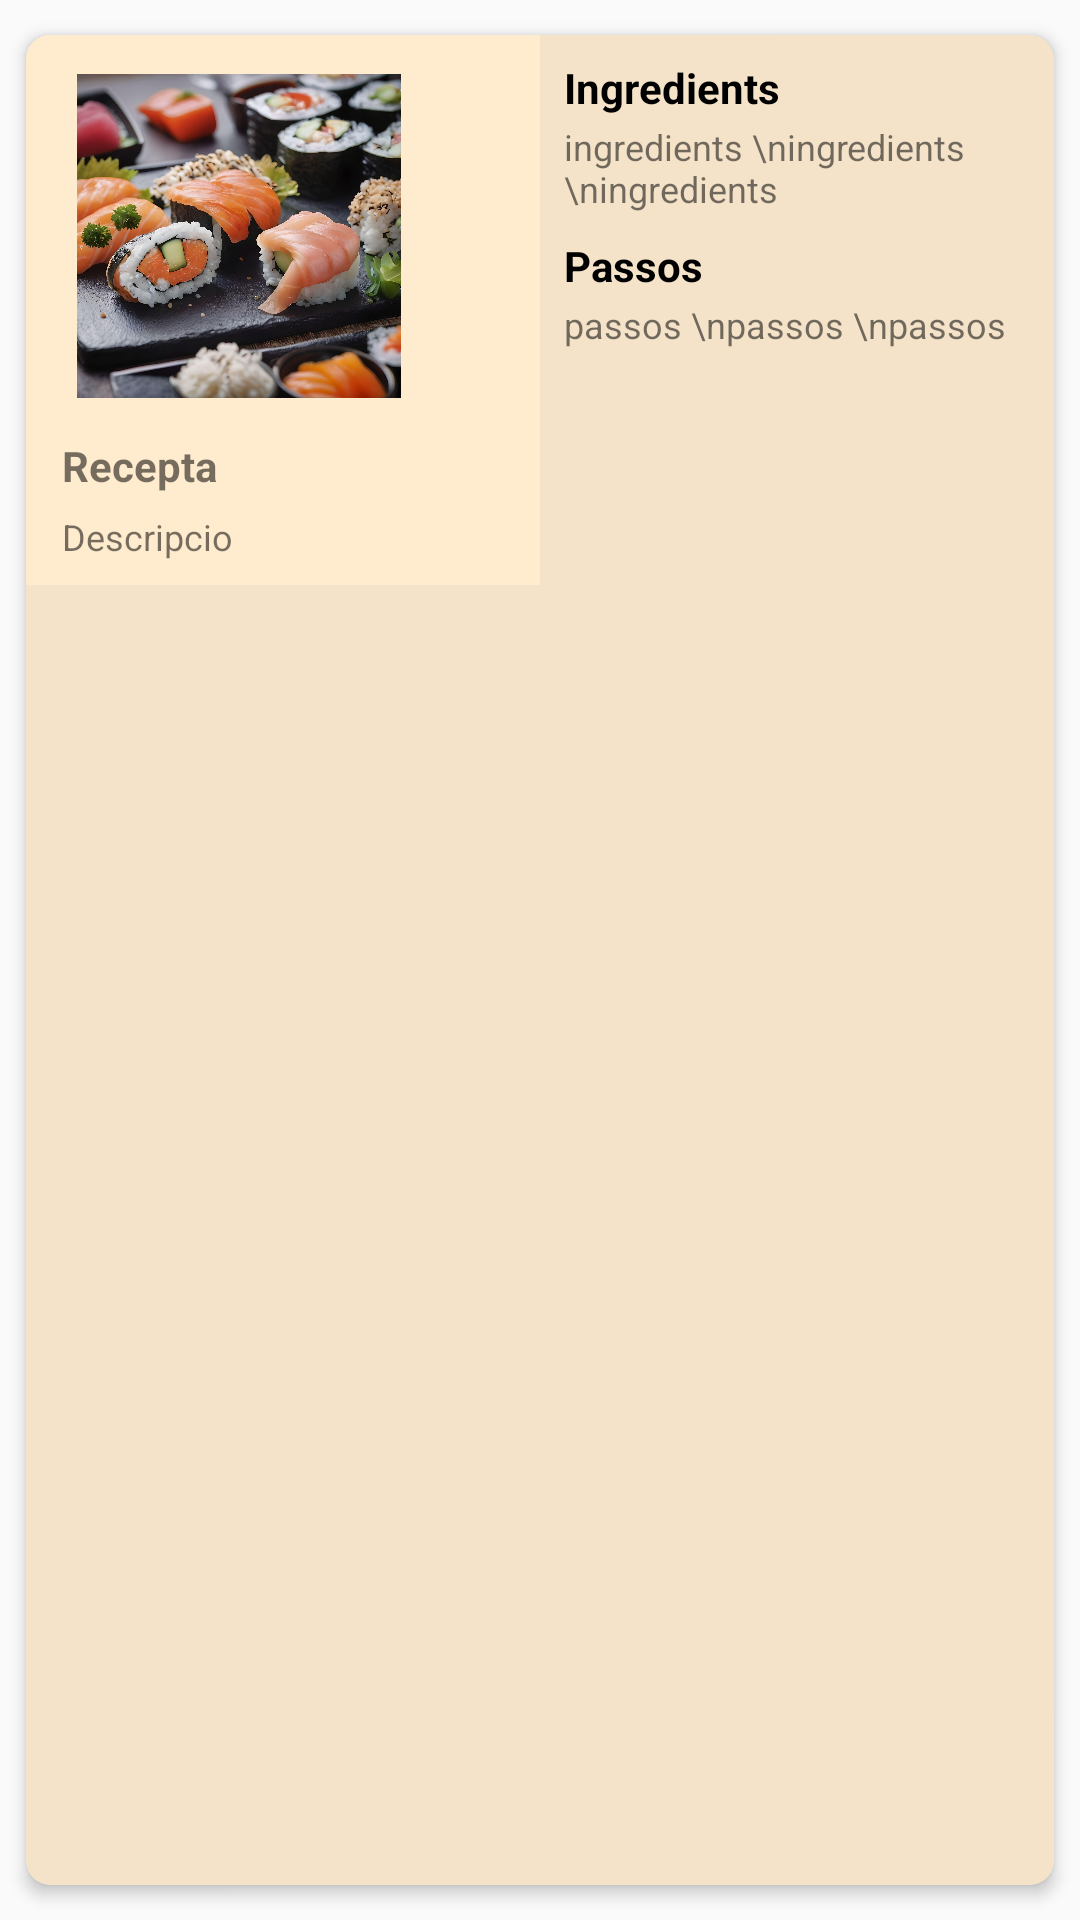

Screen size 1080w x 1920h. Icon name, then its box in pixels as (x1, y1, x2, y2):
sushi: (77, 74, 401, 398)
